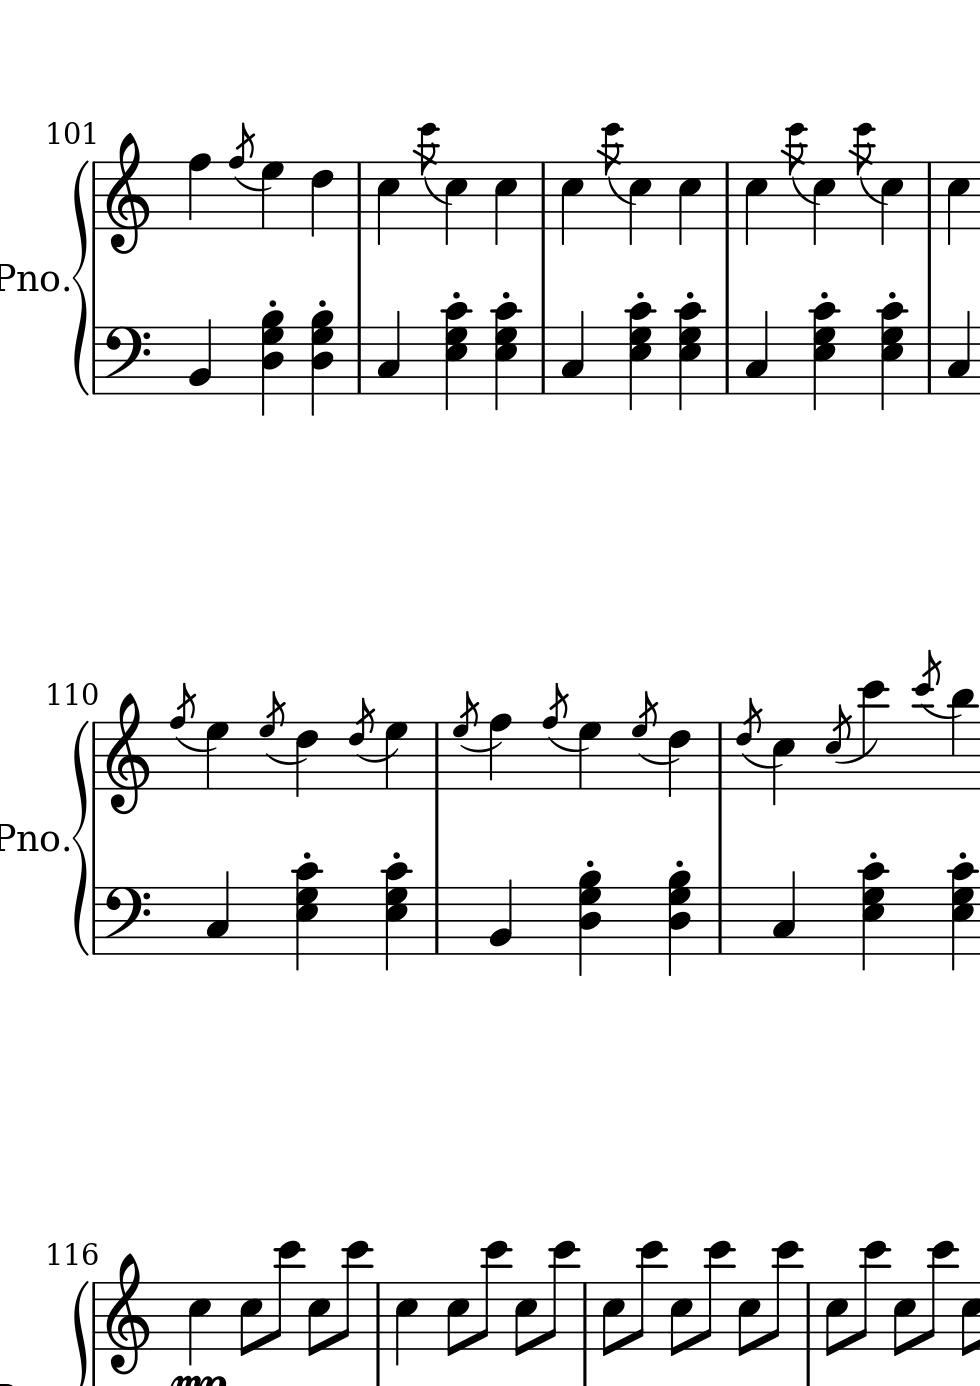0: (80, 679, 98, 710), (62, 120, 80, 148)
1: (46, 680, 62, 710), (46, 119, 62, 148), (63, 680, 78, 709), (46, 1241, 62, 1270), (63, 1241, 78, 1268), (82, 120, 97, 148)
4_11: (947, 686, 977, 791)
4_12: (858, 679, 885, 793)
4_2: (488, 876, 514, 957), (187, 318, 214, 396)
4_3: (204, 869, 230, 957), (945, 308, 972, 394), (377, 308, 402, 394), (560, 308, 585, 394), (743, 308, 769, 394), (772, 869, 797, 955)
4_5: (675, 159, 701, 248), (945, 159, 972, 247), (491, 160, 517, 248), (559, 160, 584, 248), (742, 160, 768, 248), (627, 160, 652, 247), (770, 720, 795, 807), (186, 1280, 211, 1367), (375, 160, 400, 248), (444, 160, 469, 247), (811, 159, 836, 246), (879, 159, 904, 246), (393, 1281, 418, 1368)
4_6: (308, 160, 335, 238), (293, 720, 319, 799), (666, 720, 692, 799)
4_7: (204, 721, 230, 790), (383, 720, 408, 791), (259, 162, 284, 231), (577, 722, 602, 791)
4_8: (186, 152, 210, 231), (488, 713, 510, 791)
4_th: (379, 857, 412, 972), (624, 298, 657, 413), (874, 298, 907, 413), (856, 858, 889, 972), (440, 298, 473, 411), (290, 859, 322, 972), (945, 859, 978, 971), (255, 306, 288, 415), (808, 298, 840, 413), (574, 866, 605, 978), (303, 306, 335, 414), (663, 865, 692, 979), (673, 300, 702, 411), (491, 300, 519, 413)
6: (80, 1240, 99, 1268)
8_12: (921, 1239, 958, 1352), (334, 1240, 371, 1352), (266, 1240, 302, 1353), (852, 1239, 888, 1352), (542, 1240, 578, 1352), (629, 1240, 665, 1352), (697, 1240, 733, 1352), (765, 1240, 801, 1352), (474, 1240, 509, 1352)
8_5: (822, 1281, 848, 1356), (238, 1280, 263, 1357), (735, 1280, 760, 1355), (512, 1279, 537, 1356), (305, 1279, 330, 1355), (445, 1280, 470, 1356), (600, 1281, 625, 1357), (667, 1280, 692, 1356), (891, 1280, 915, 1355), (959, 1280, 979, 1356)
Acciaccature: (910, 652, 944, 792), (167, 682, 199, 790), (228, 121, 256, 233), (542, 682, 570, 792), (258, 689, 286, 790), (631, 689, 659, 791), (783, 121, 808, 231), (452, 689, 479, 789), (852, 121, 876, 232), (348, 694, 375, 791), (417, 119, 440, 231), (600, 120, 624, 230), (736, 699, 762, 793), (826, 702, 852, 791)
Fclef: (102, 885, 153, 957), (102, 326, 152, 397)
Gclef: (104, 131, 153, 256), (103, 1252, 151, 1376), (104, 690, 150, 815)
Pno: (1, 260, 59, 296), (1, 820, 59, 856)
Single_barline: (350, 162, 369, 229), (711, 722, 729, 790), (718, 162, 736, 229), (350, 327, 368, 393), (427, 723, 445, 790), (533, 162, 552, 228), (535, 326, 552, 394), (428, 887, 445, 954), (711, 887, 728, 954), (577, 1282, 593, 1352), (921, 163, 938, 228), (800, 1283, 816, 1352), (719, 327, 735, 394), (922, 327, 938, 393), (370, 1283, 386, 1350), (87, 162, 102, 230), (87, 722, 102, 790), (88, 326, 102, 394), (88, 888, 102, 955), (88, 1282, 101, 1350)
Slur: (838, 740, 875, 767), (420, 176, 452, 207), (607, 175, 637, 205), (858, 177, 889, 207), (786, 176, 817, 205), (921, 704, 960, 724), (546, 736, 589, 753), (637, 752, 682, 768), (358, 749, 400, 766), (740, 753, 782, 770), (233, 175, 272, 192), (173, 739, 217, 753), (267, 754, 310, 767), (461, 741, 502, 753)
